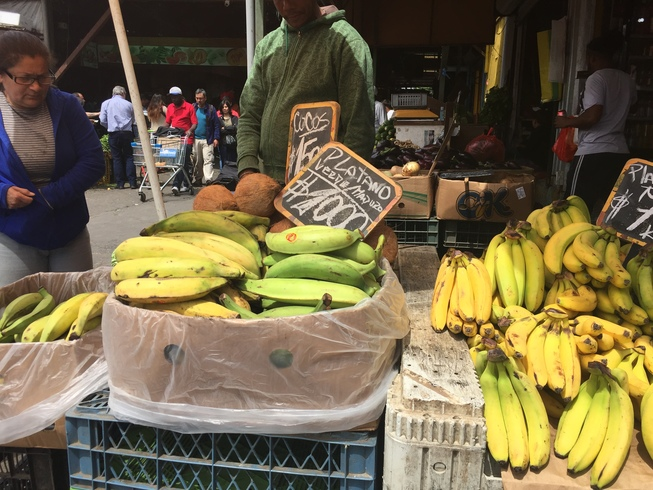precio: (273, 137, 409, 271), (593, 146, 653, 256), (288, 101, 345, 202)
